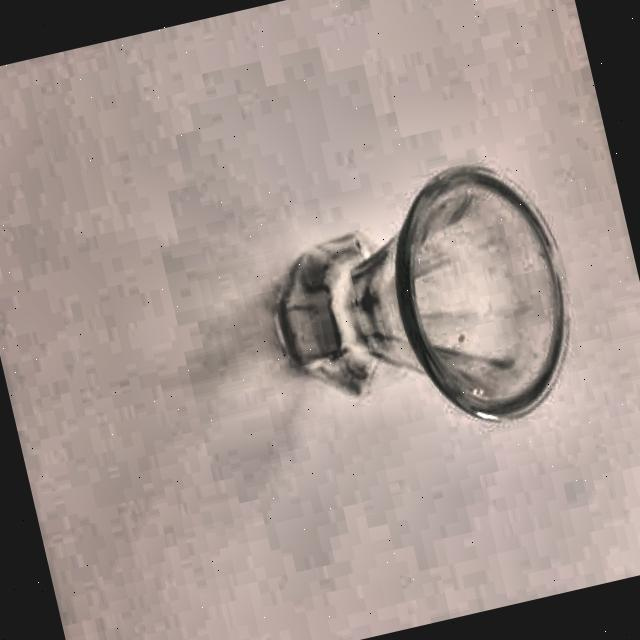glass: (250, 148, 596, 477)
